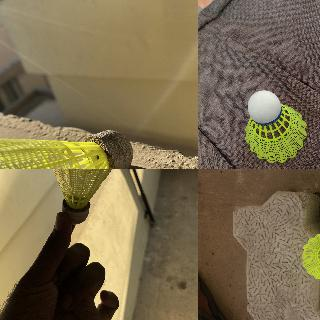shuttlecock: (0, 130, 133, 168), (244, 90, 306, 162), (45, 169, 120, 225), (301, 232, 319, 281)
